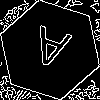A: (25, 25, 73, 79)
